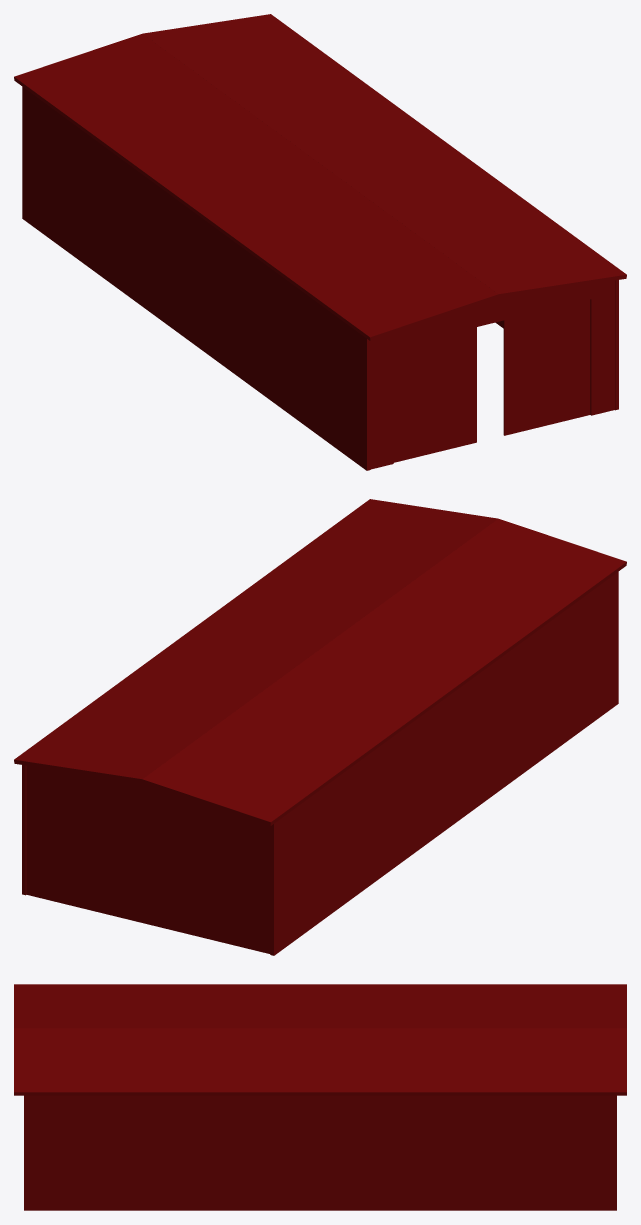
The model's file is Warehouse.fbx.
3 renders of one model, top to bottom at view 1: azimuth 30°, elevation 25°; view 2: azimuth 150°, elevation 25°; view 3: azimuth 270°, elevation 25°, orthographic. The views are drawn at different scales.
Parts seen in each view (by area): view 1: pCube2, pCube3, pCube1, pCube5, pCube8, pCube7; view 2: pCube2, pCube3, pCube1, pCube6, pCube4; view 3: pCube4, pCube1, pCube2.
Boxes of the visible parts, left/top/right/bottom form: pCube2: left=14, top=33, right=498, bottom=340; pCube3: left=22, top=87, right=370, bottom=470; pCube1: left=143, top=14, right=626, bottom=298; pCube5: left=370, top=280, right=614, bottom=469; pCube8: left=503, top=299, right=590, bottom=435; pCube7: left=393, top=327, right=476, bottom=462; pCube2: left=142, top=518, right=626, bottom=825; pCube3: left=270, top=572, right=618, bottom=955; pCube1: left=14, top=499, right=497, bottom=783; pCube6: left=26, top=765, right=270, bottom=953; pCube4: left=22, top=765, right=26, bottom=895; pCube4: left=24, top=1095, right=616, bottom=1210; pCube1: left=14, top=1028, right=626, bottom=1095; pCube2: left=14, top=984, right=626, bottom=1028.
Size of the model in its own units: 12.91 by 7.21 by 31.
